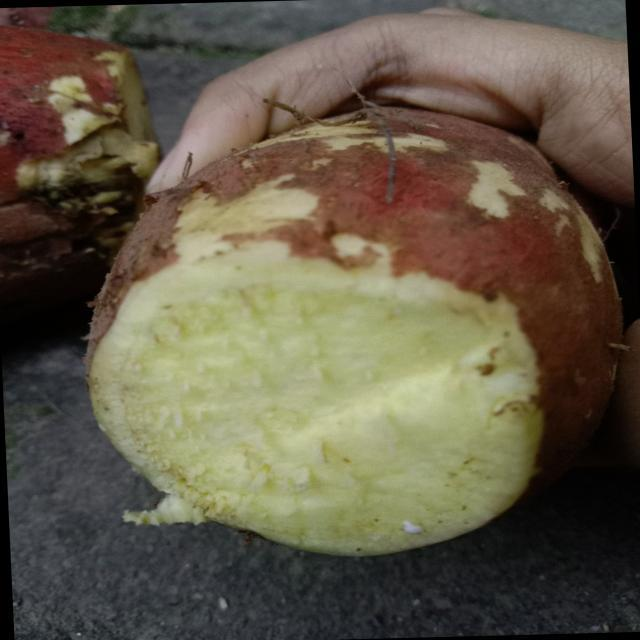Healthy Sweet Potato: (90, 256, 542, 555)
